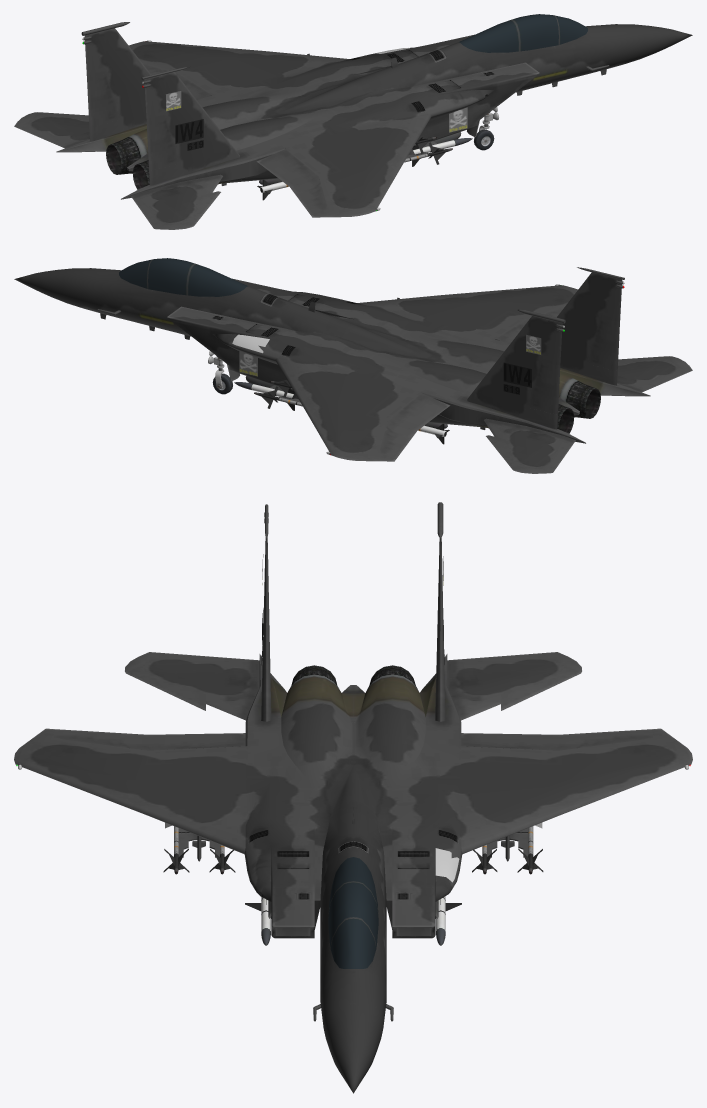
The picture shows the model from 3 angles, top to bottom: view 1: azimuth 30°, elevation 25°; view 2: azimuth 150°, elevation 25°; view 3: azimuth 270°, elevation 25°; orthographic projection. The views are drawn at different scales.
Visible parts, largest first — view 1: TomGroup_0_mtl_f15_col_0, TomGroup_1_mtl_f15_col_0, TomGroup_7_mtl_f15_glass_0, TomGroup_6_mtl_f15_decals_0; view 2: TomGroup_0_mtl_f15_col_0, TomGroup_1_mtl_f15_col_0, TomGroup_7_mtl_f15_glass_0, TomGroup_6_mtl_f15_decals_0; view 3: TomGroup_0_mtl_f15_col_0, TomGroup_1_mtl_f15_col_0, TomGroup_7_mtl_f15_glass_0.
Part boxes in pixels (left/top/right/bottom): TomGroup_0_mtl_f15_col_0: left=56, top=22, right=692, bottom=217; TomGroup_1_mtl_f15_col_0: left=14, top=64, right=490, bottom=229; TomGroup_7_mtl_f15_glass_0: left=459, top=14, right=587, bottom=52; TomGroup_6_mtl_f15_decals_0: left=166, top=48, right=467, bottom=150; TomGroup_0_mtl_f15_col_0: left=14, top=267, right=650, bottom=461; TomGroup_1_mtl_f15_col_0: left=216, top=308, right=692, bottom=473; TomGroup_7_mtl_f15_glass_0: left=119, top=258, right=247, bottom=296; TomGroup_6_mtl_f15_decals_0: left=232, top=334, right=541, bottom=394; TomGroup_0_mtl_f15_col_0: left=14, top=502, right=692, bottom=1093; TomGroup_1_mtl_f15_col_0: left=54, top=652, right=652, bottom=750; TomGroup_7_mtl_f15_glass_0: left=328, top=857, right=378, bottom=968.
Bounding box in the file's own units: 1936 × 566 × 1283.
4 materials, 4 textured.
